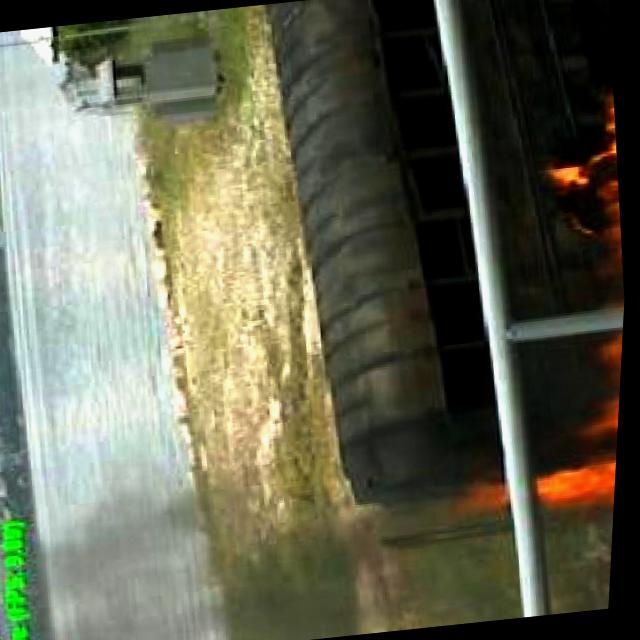helmet: (521, 359, 625, 512), (541, 104, 630, 260)
no_helmet: (31, 459, 426, 640)
